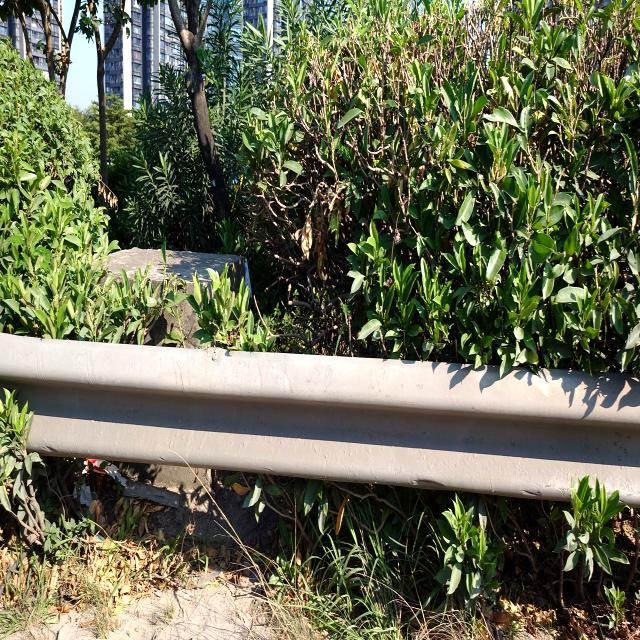Guard rail: (0, 333, 640, 507)
Tree: (0, 389, 640, 640), (241, 0, 640, 376), (0, 42, 161, 342), (188, 267, 275, 351)
